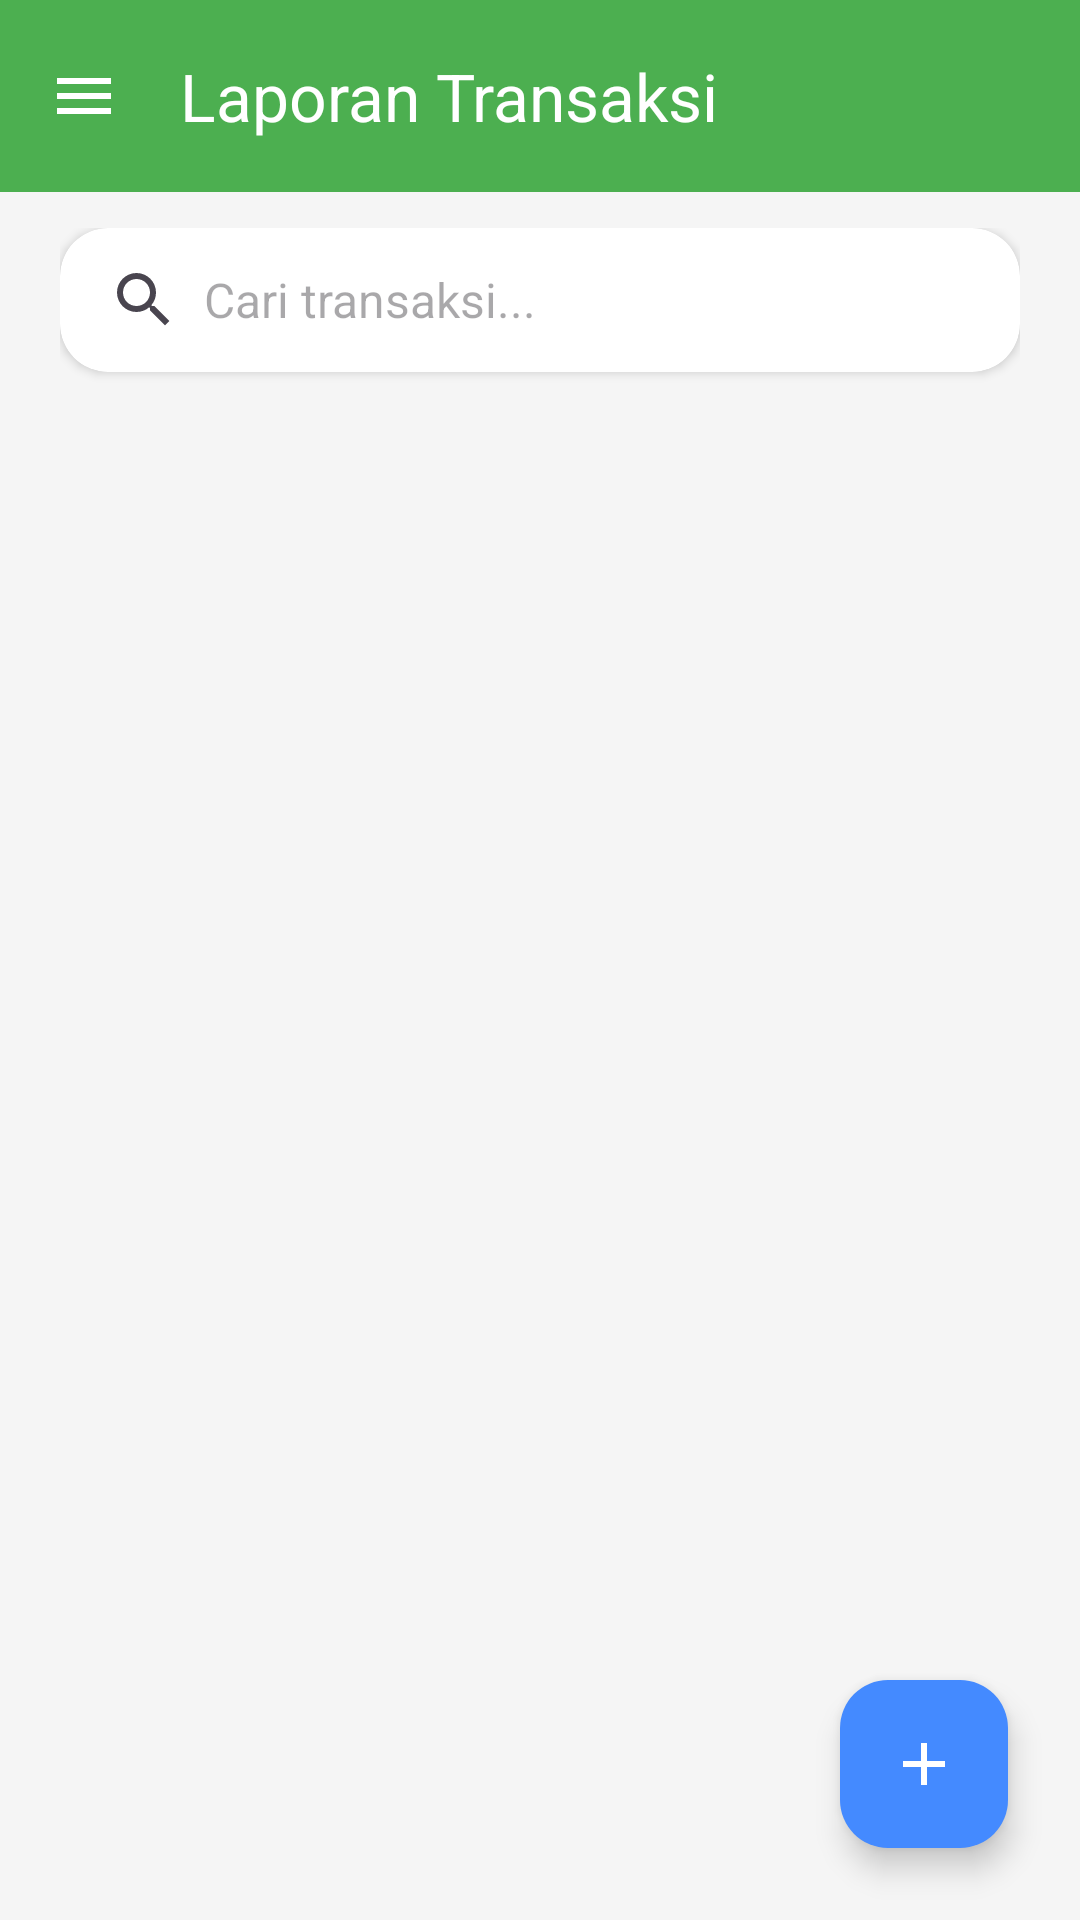

Screen size 1080×1920. Icon name, then its box in pixels as (x1, y1, x2, y2):
Tambah Transaksi: (840, 1680, 1008, 1848)
